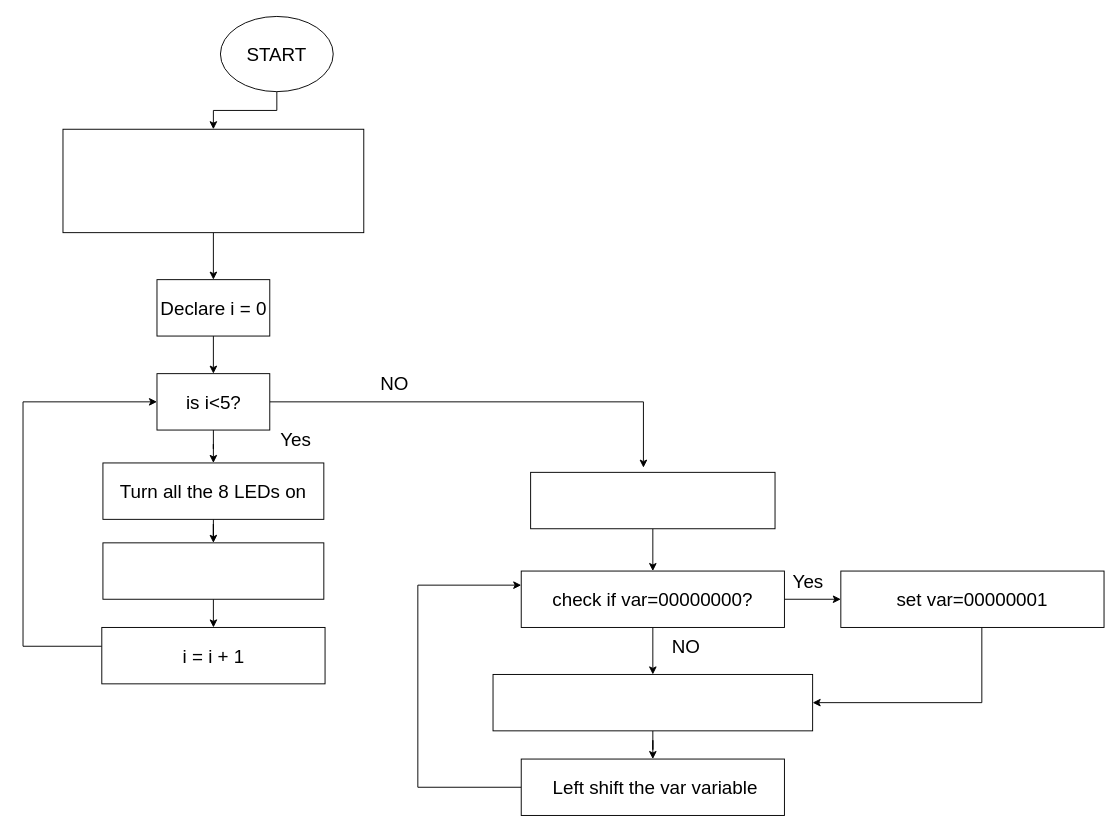
Image size: 1120x832. Some labels were removed from this diagram. Each missing label, with the centre of its shape:
"Declare a variable var=00000001" goes at (x=652, y=500).
"Turn all the 8 LEDs off" goes at (x=213, y=570).
"Turn ON the gpio pins to take the input" goes at (x=213, y=180).
"Turn on the LEDs a/c to var" goes at (x=652, y=702).
